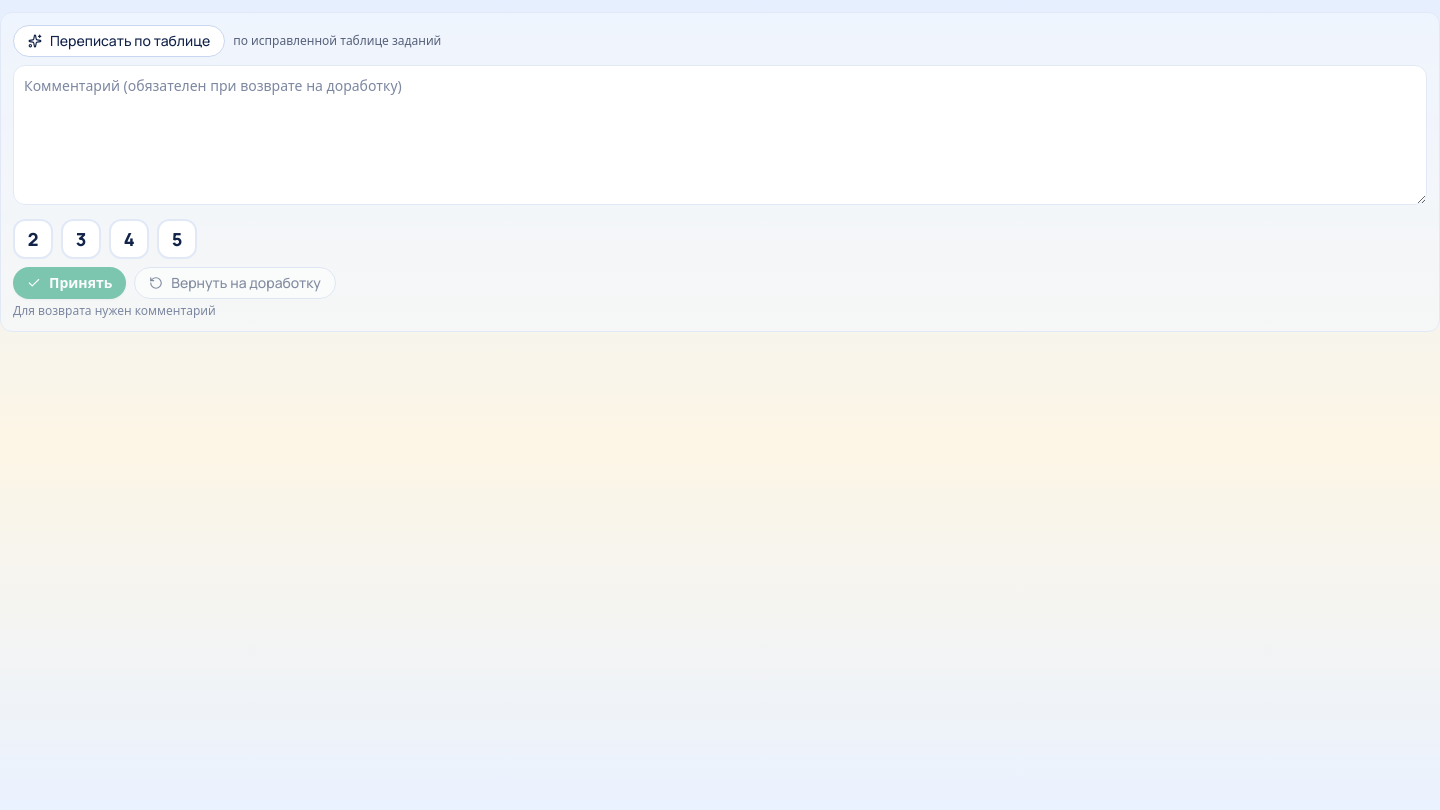
Scenario: §213 — результат предложением, а не подменой › «Вставить» заменяет текст и убирает предложение
The width and height of the screenshot is (1440, 810).
Type "Мой текст" into the text box with test id "review-comment-input". click: (720, 135)
box: [13, 65, 1427, 205]
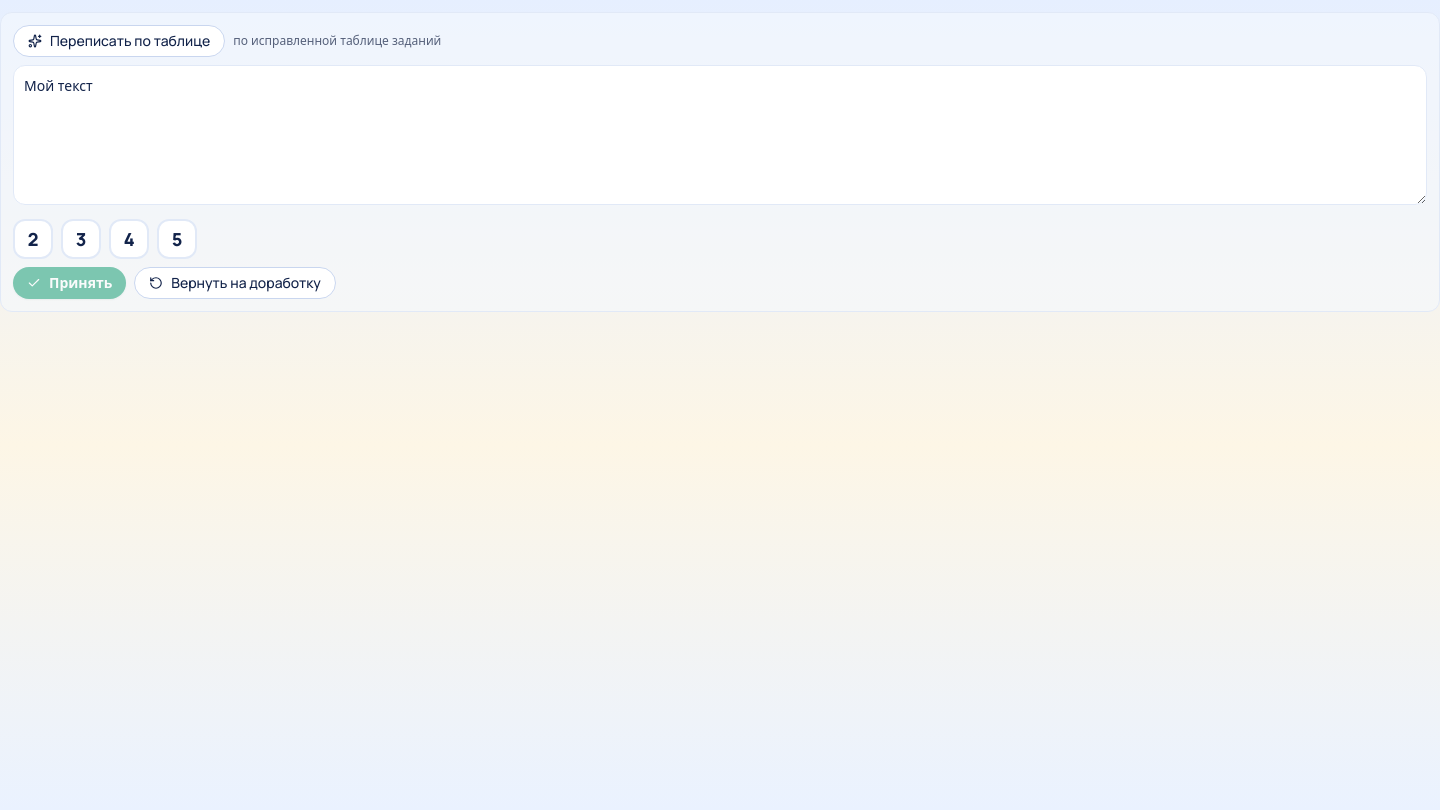
Click the button with test id "review-rewrite-button". click: (119, 41)
box: [13, 25, 225, 57]
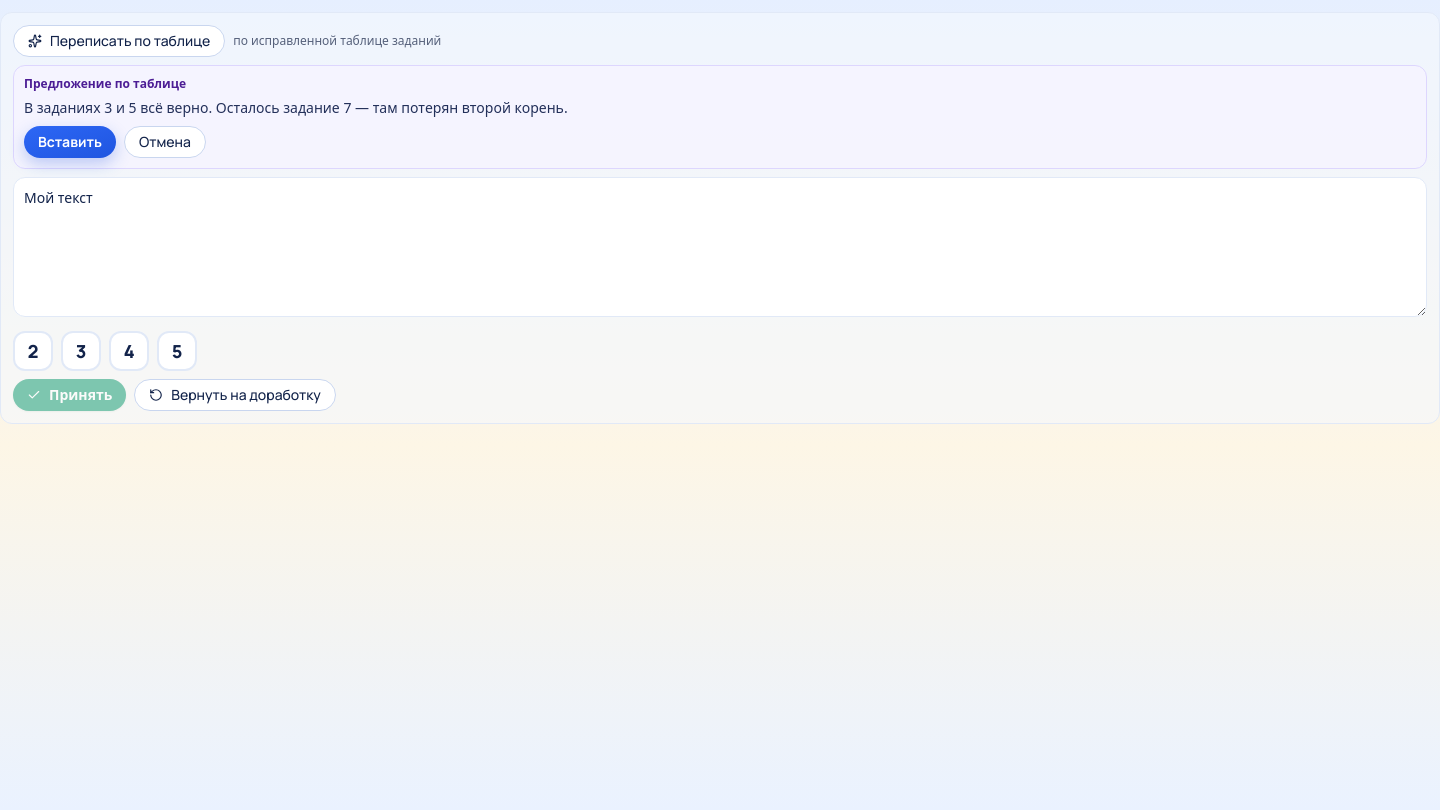
Check: the element with test id "review-rewrite-suggestion" is shown, box [13, 65, 1427, 169]
Click the button with test id "review-rewrite-apply". click: (70, 142)
box: [24, 126, 116, 158]
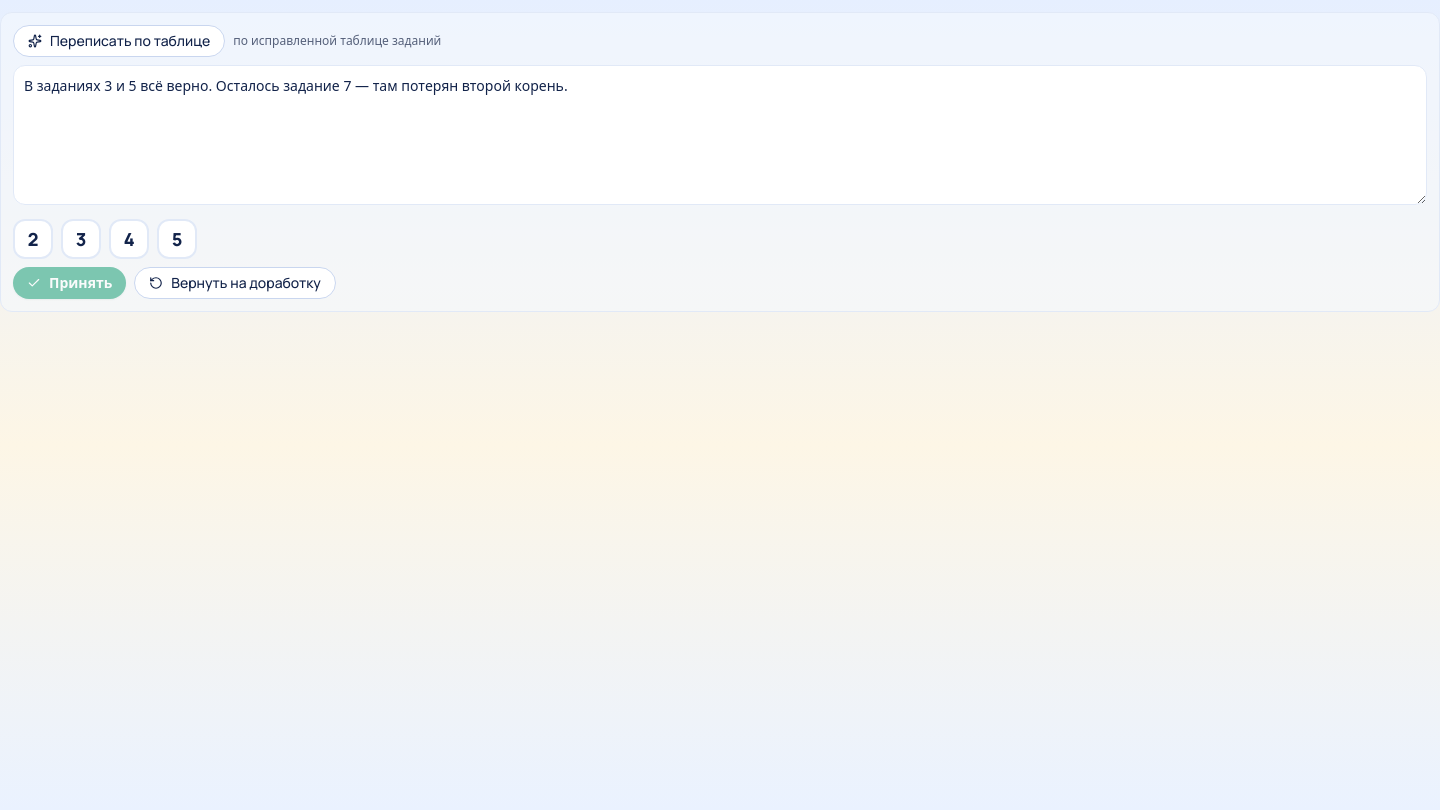
Check: the text box with test id "review-comment-input" holds "В заданиях 3 и 5 всё верно. Осталось задание 7 — там потерян второй корень.", box [13, 65, 1427, 205]
Check: the element with test id "review-rewrite-suggestion" is gone
